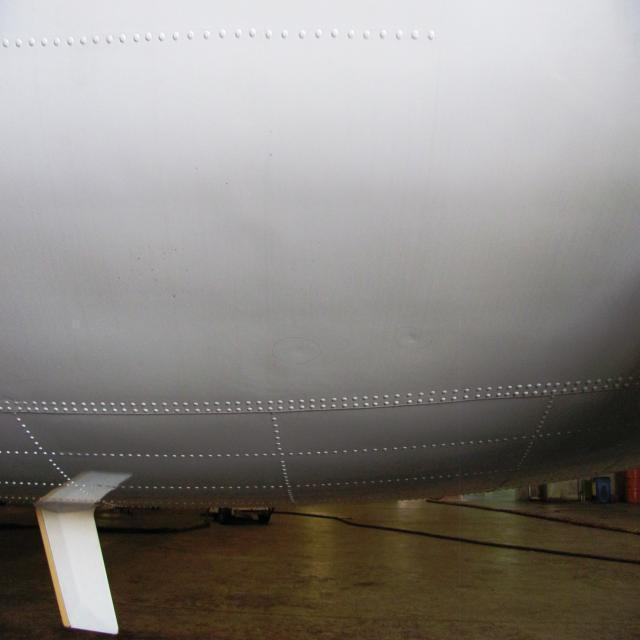dent: (280, 338, 316, 362), (396, 328, 424, 346)
